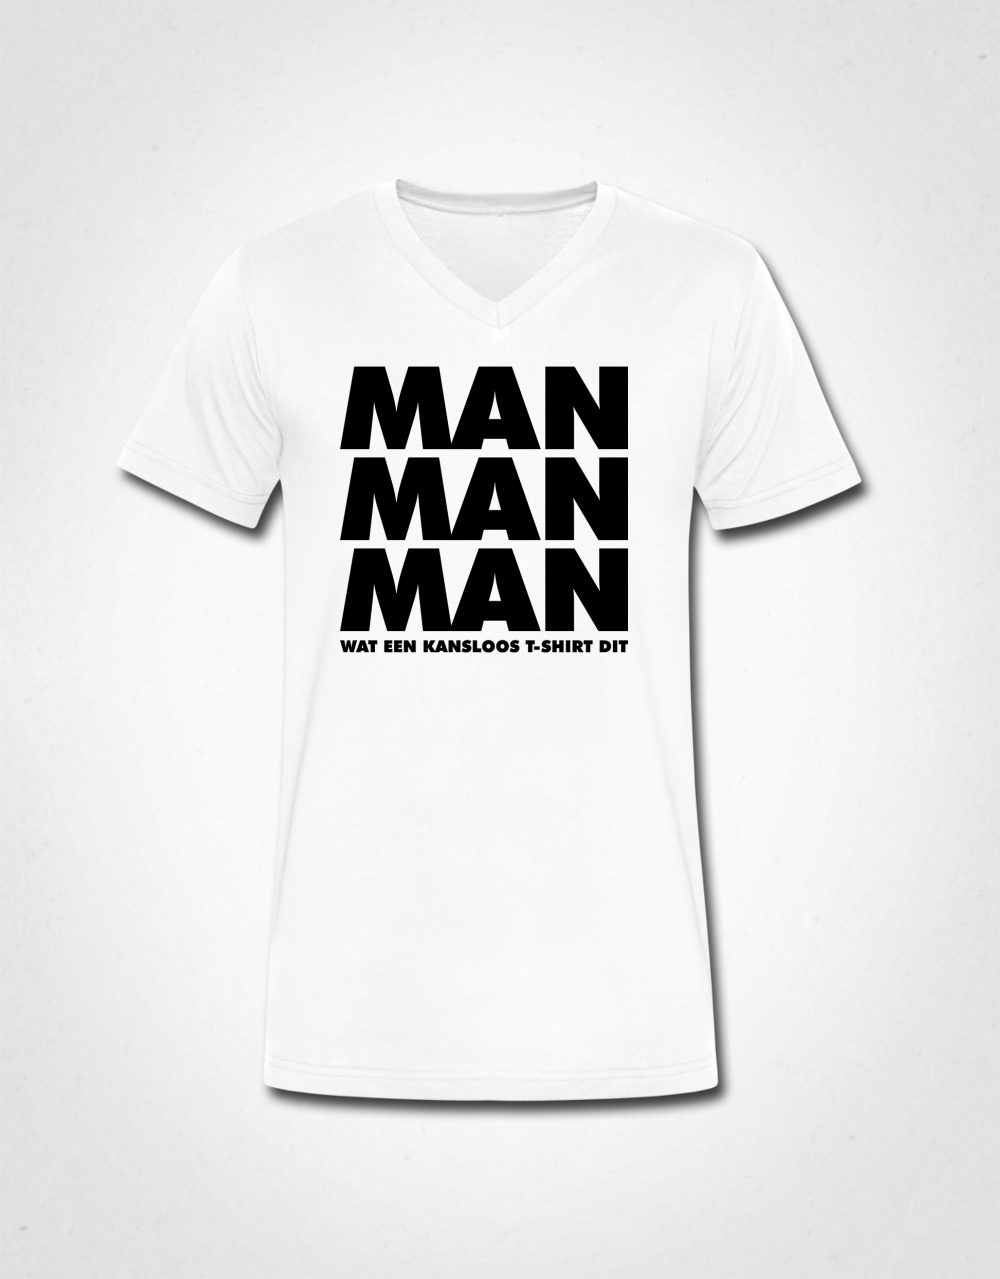T-Shirt: (107, 174, 896, 1130)
